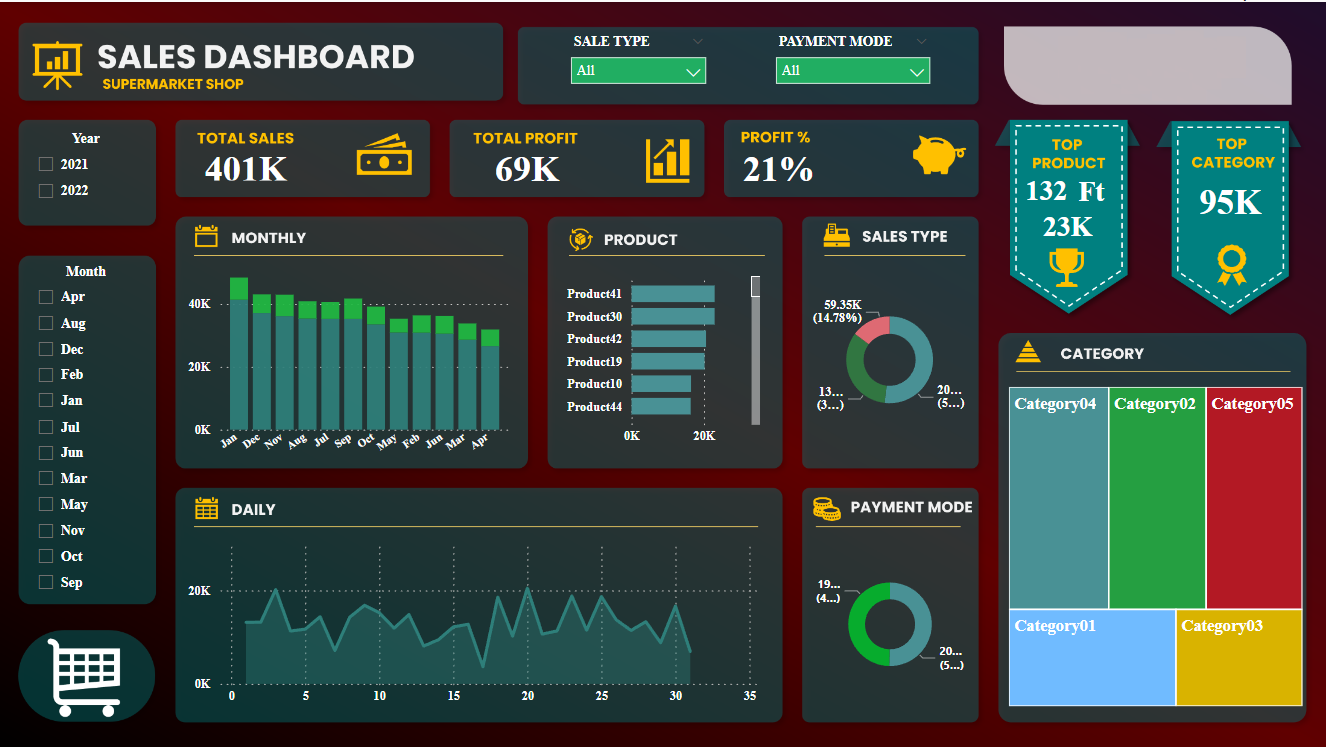

This screenshot's page, from the dashboard's own definition file:
{"tool":"powerbi","page":{"name":"Page 1","canvas":[1280,720],"ordinal":0},"visuals":[{"type":"slicer","fields":{"Values":["InputData.SALE TYPE"]},"box":[541.7,25.3,150.8,70],"z":0},{"type":"slicer","fields":{"Values":["InputData.PAYMENT MODE"]},"box":[739.5,25.3,168.9,72.4],"z":1000},{"type":"slicer","title":"Year","fields":{"Values":["InputData.Year"]},"box":[25.3,124.3,117,86.9],"z":2000},{"type":"slicer","title":"Month ","fields":{"Values":["InputData.Month Name"]},"box":[25.3,252.1,117,329.4],"z":3000},{"type":"columnChart","fields":{"Y":["Sum(InputData.Total Selling Value)","InputData.Profit"],"Category":["InputData.Month Name"]},"box":[177.3,252.1,319.7,191.8],"z":4000},{"type":"card","fields":{"Values":["Sum(InputData.Total Selling Value)"]},"box":[193,141.2,90.5,36.2],"z":5000},{"type":"card","fields":{"Values":["InputData.Profit"]},"box":[456,141.2,107.4,37.4],"z":6000},{"type":"card","fields":{"Values":["InputData.Profit %"]},"box":[710.6,133.9,84.5,50.7],"z":7000},{"type":"clusteredBarChart","fields":{"Category":["InputData.MasterData.PRODUCT"],"Y":["Sum(InputData.Total Selling Value)"]},"box":[541.7,252.1,197.9,182.2],"z":8000},{"type":"donutChart","fields":{"Category":["InputData.SALE TYPE"],"Y":["Sum(InputData.Total Selling Value)"]},"box":[782,248,156,194],"z":9000},{"type":"card","fields":{"Values":["Min(InputData.MasterData.UOM)"]},"box":[1033.9,159.3,41,47.1],"z":10000},{"type":"card","fields":{"Values":["Sum(InputData.QUANTITY)"]},"box":[977.2,160.5,67.6,42.2],"z":11000},{"type":"card","fields":{"Values":["Sum(InputData.Total Selling Value)"]},"box":[988.1,195.4,86.9,43.4],"z":12000},{"type":"card","fields":{"Values":["Sum(InputData.Total Selling Value)"]},"box":[1135.3,167.7,106.2,49.5],"z":13000},{"type":"donutChart","fields":{"Category":["InputData.PAYMENT MODE"],"Y":["Sum(InputData.Total Selling Value)"]},"box":[785.4,509.1,149.6,183.4],"z":14000},{"type":"treemap","fields":{"Group":["InputData.MasterData.CATEGORY"],"Values":["Sum(InputData.Total Selling Value)"]},"box":[970,367,293,318],"z":15000},{"type":"areaChart","fields":{"Category":["InputData.Day"],"Y":["Sum(InputData.Total Selling Value)"]},"box":[177.3,509.1,562.2,176.1],"z":16000}]}

Visuals, with their boxes in screenshot pixels (x1, y1, x2, y2), scaled from the page's 1280x720 canvas onto the 1326x747 screenshot:
slicer - InputData.SALE TYPE: 561,26,717,99
slicer - InputData.PAYMENT MODE: 766,26,941,101
"Year" slicer: 26,129,147,219
"Month " slicer: 26,262,147,603
columnChart - Sum(InputData.Total Selling Value) x InputData.Profit: 184,262,515,461
card - Sum(InputData.Total Selling Value): 200,146,294,184
card - InputData.Profit: 472,146,584,185
card - InputData.Profit %: 736,139,824,192
clusteredBarChart - InputData.MasterData.PRODUCT x Sum(InputData.Total Selling Value): 561,262,766,451
donutChart - InputData.SALE TYPE x Sum(InputData.Total Selling Value): 810,257,972,459
card - Min(InputData.MasterData.UOM): 1071,165,1114,214
card - Sum(InputData.QUANTITY): 1012,167,1082,210
card - Sum(InputData.Total Selling Value): 1024,203,1114,248
card - Sum(InputData.Total Selling Value): 1176,174,1286,225
donutChart - InputData.PAYMENT MODE x Sum(InputData.Total Selling Value): 814,528,969,718
treemap - InputData.MasterData.CATEGORY x Sum(InputData.Total Selling Value): 1005,381,1308,711
areaChart - InputData.Day x Sum(InputData.Total Selling Value): 184,528,766,711
